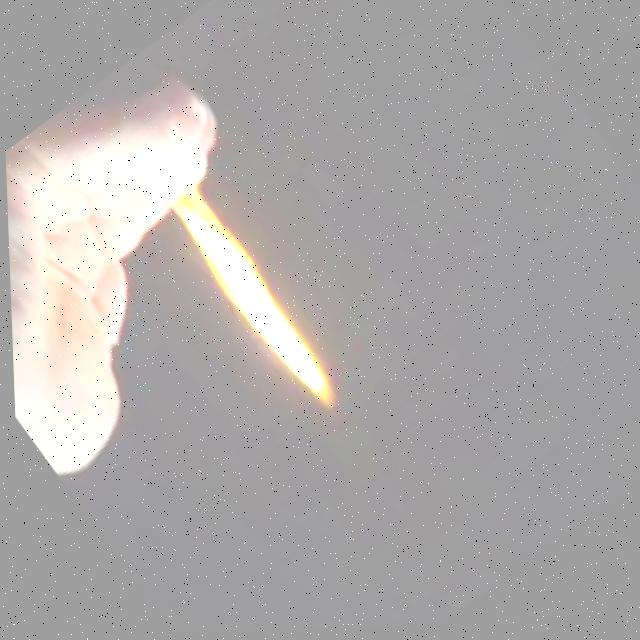Fire: (115, 122, 362, 437)
